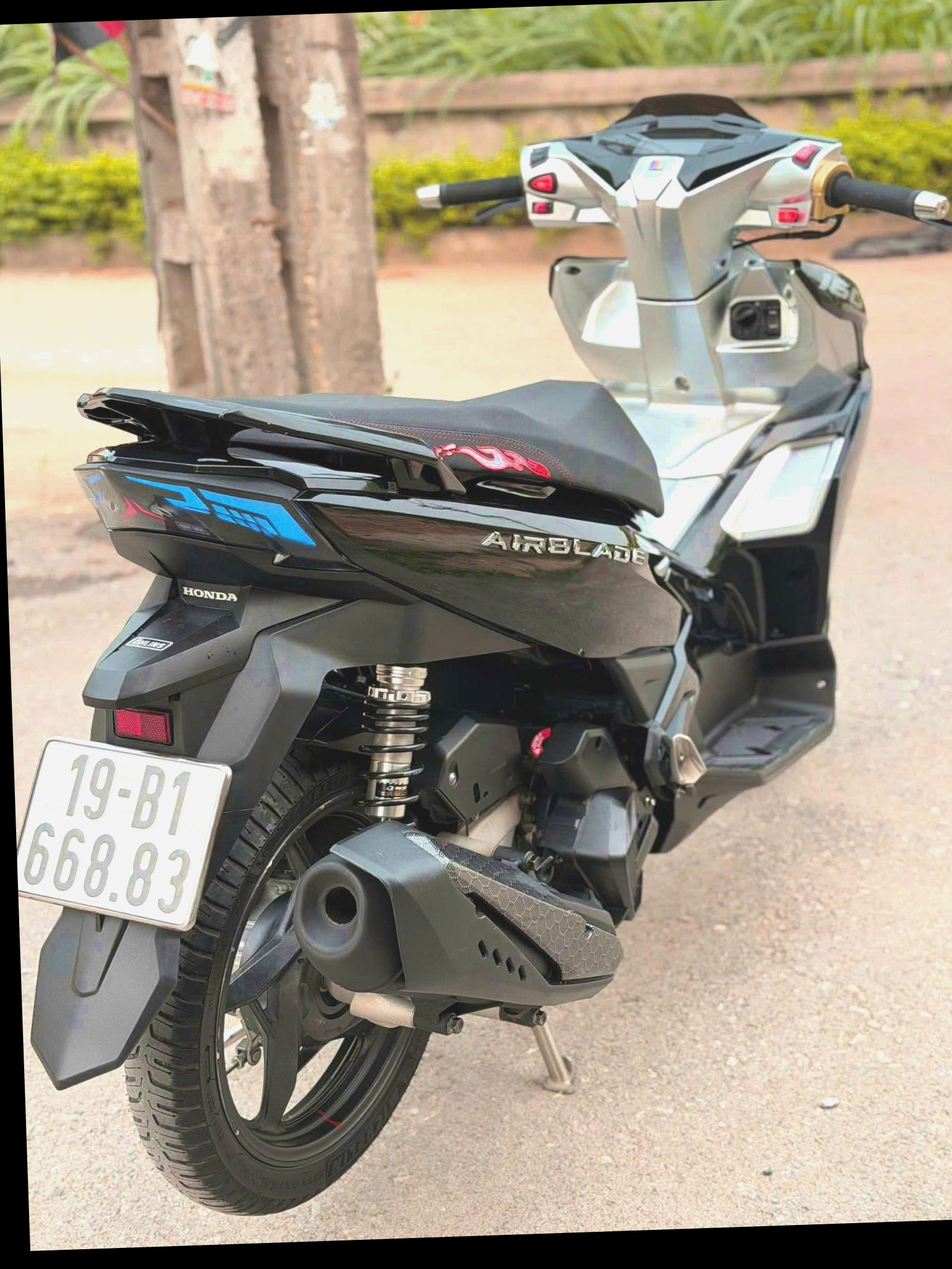Bien-so: (0, 690, 218, 921)
